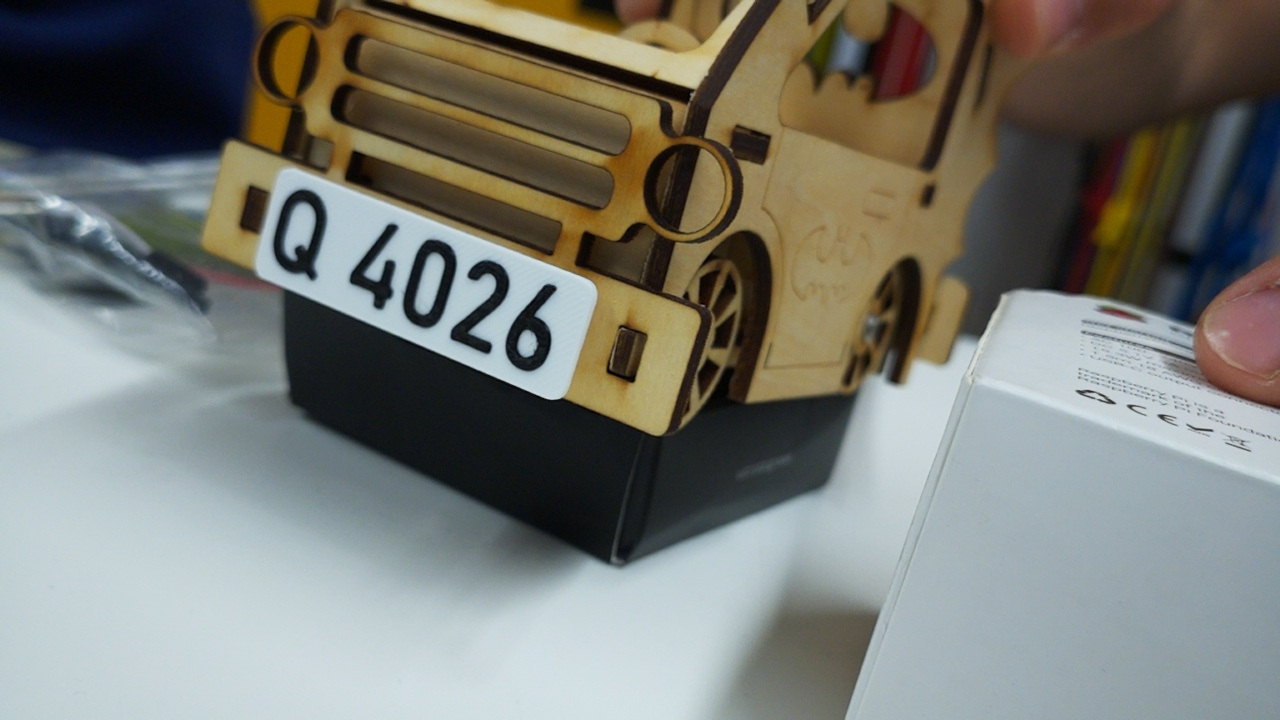license_plate: (252, 166, 601, 403)
